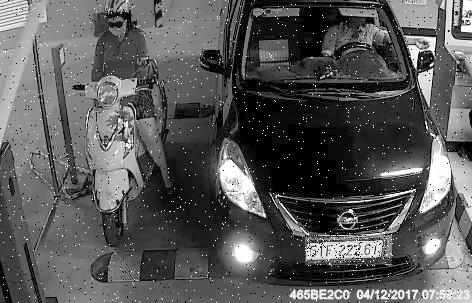License-plate: (307, 237, 395, 268)
